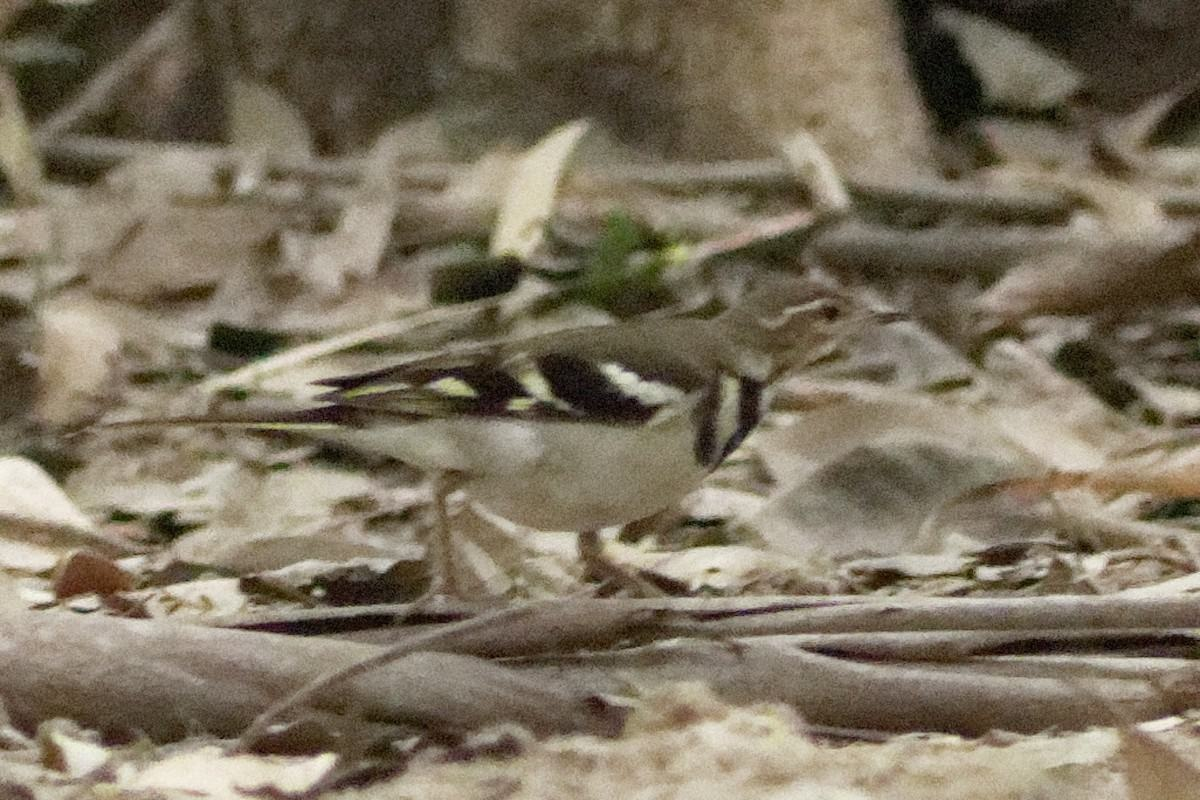wagtail: (268, 283, 915, 583)
